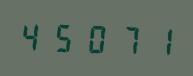five: (49, 18, 79, 55)
four: (18, 17, 48, 54)
one: (142, 21, 172, 58)
seven: (111, 20, 141, 57)
zero: (80, 19, 110, 56)
